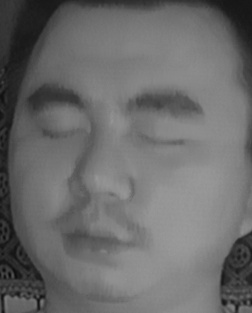blink: (137, 121, 187, 159), (37, 115, 90, 150)
mouth: (47, 208, 138, 268)
